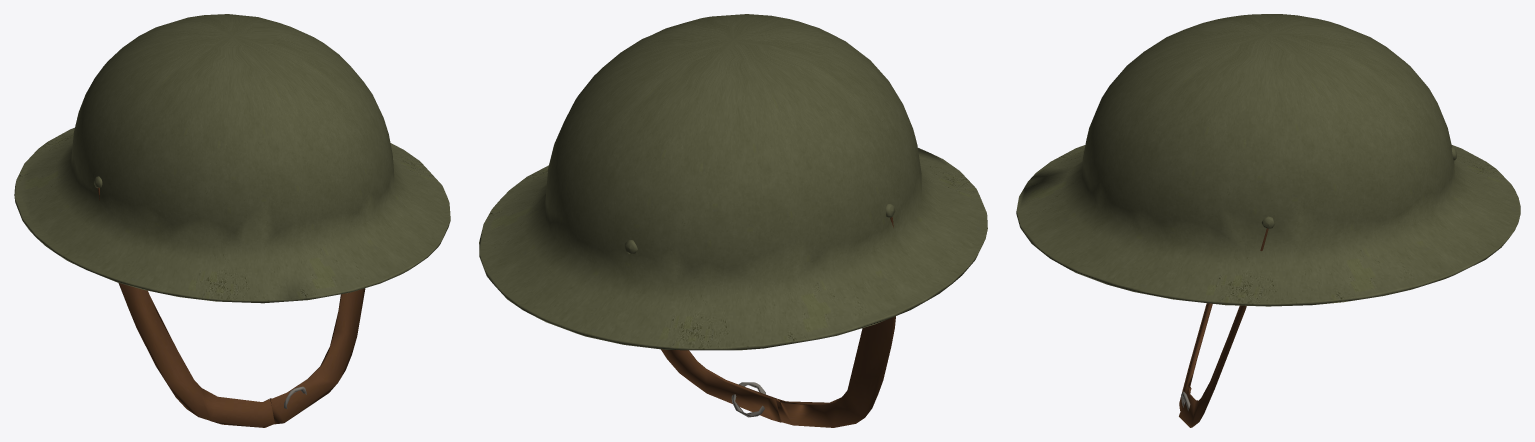
The model's file is helmet_brodie.glb.
The picture shows the model from 3 angles, left to right: view 1: azimuth 30°, elevation 25°; view 2: azimuth 150°, elevation 25°; view 3: azimuth 270°, elevation 25°; orthographic projection. The views are drawn at different scales.
Visible parts, largest first — view 1: helmet_brodie_paint, helmet_brodie_liner; view 2: helmet_brodie_paint, helmet_brodie_liner; view 3: helmet_brodie_paint, helmet_brodie_liner.
Boxes of the visible parts, left/top/right/bottom form: helmet_brodie_paint: left=14, top=14, right=450, bottom=303; helmet_brodie_liner: left=97, top=187, right=365, bottom=427; helmet_brodie_paint: left=479, top=14, right=987, bottom=350; helmet_brodie_liner: left=661, top=217, right=895, bottom=427; helmet_brodie_paint: left=1016, top=14, right=1520, bottom=306; helmet_brodie_liner: left=1179, top=228, right=1268, bottom=427.
Size of the model in its own units: 0.2696 by 0.2527 by 0.3048.
4 materials, 2 textured.
